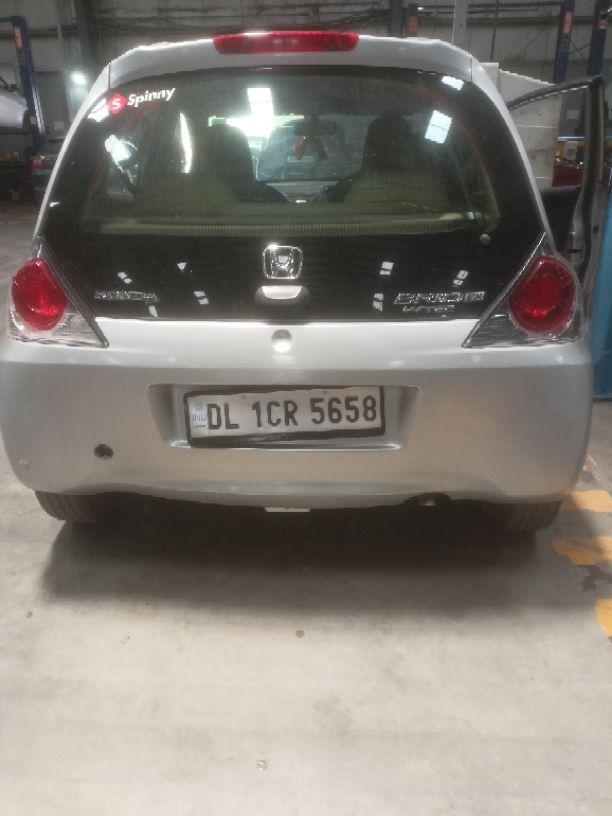license_plate: (182, 384, 386, 444)
